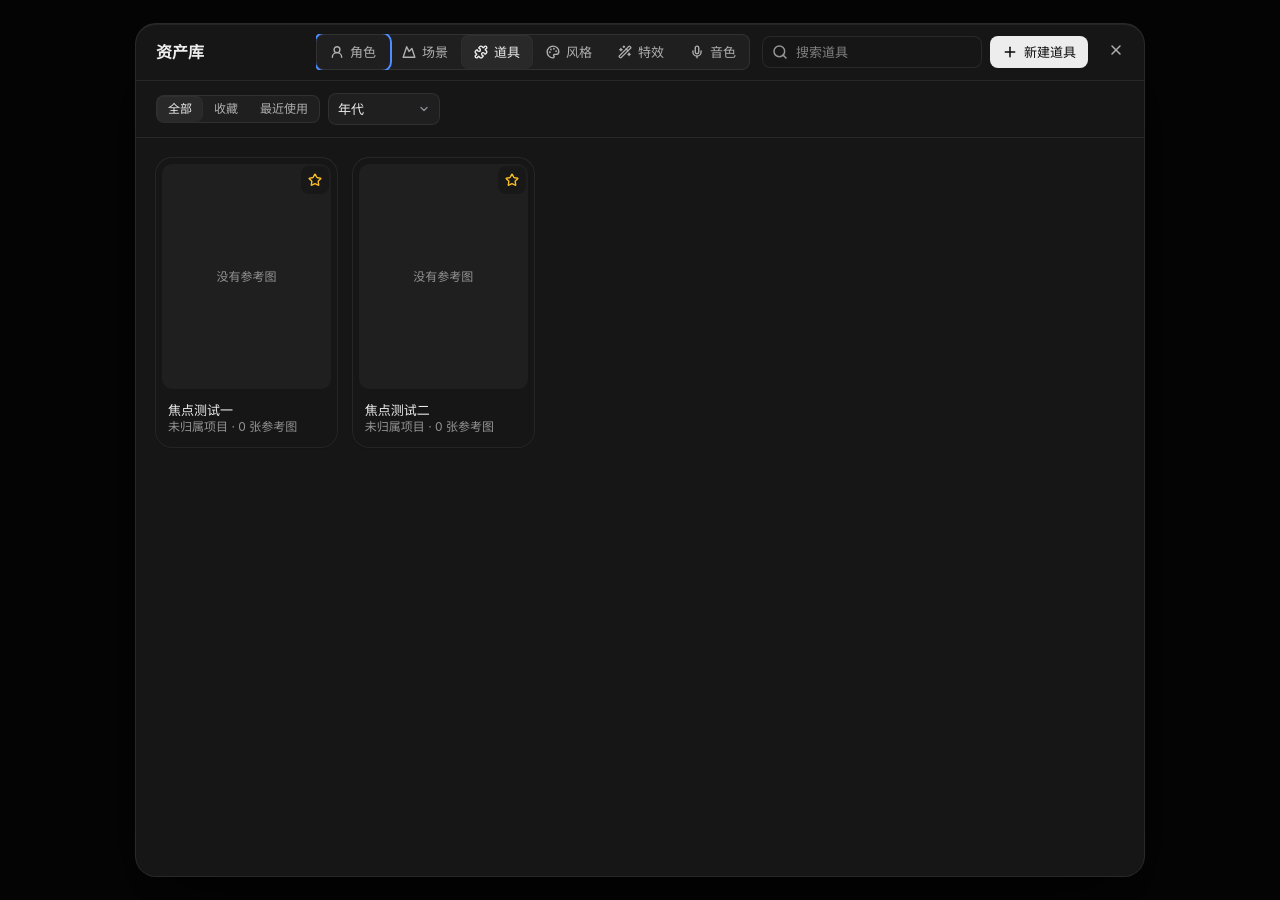
Scenario: 资产库面板的收藏 › 收藏列表取消当前卡片后聚焦下一项，最后一项消失后聚焦查询框
Click the button "收藏".
click(226, 109)  # box [204,97,248,121]
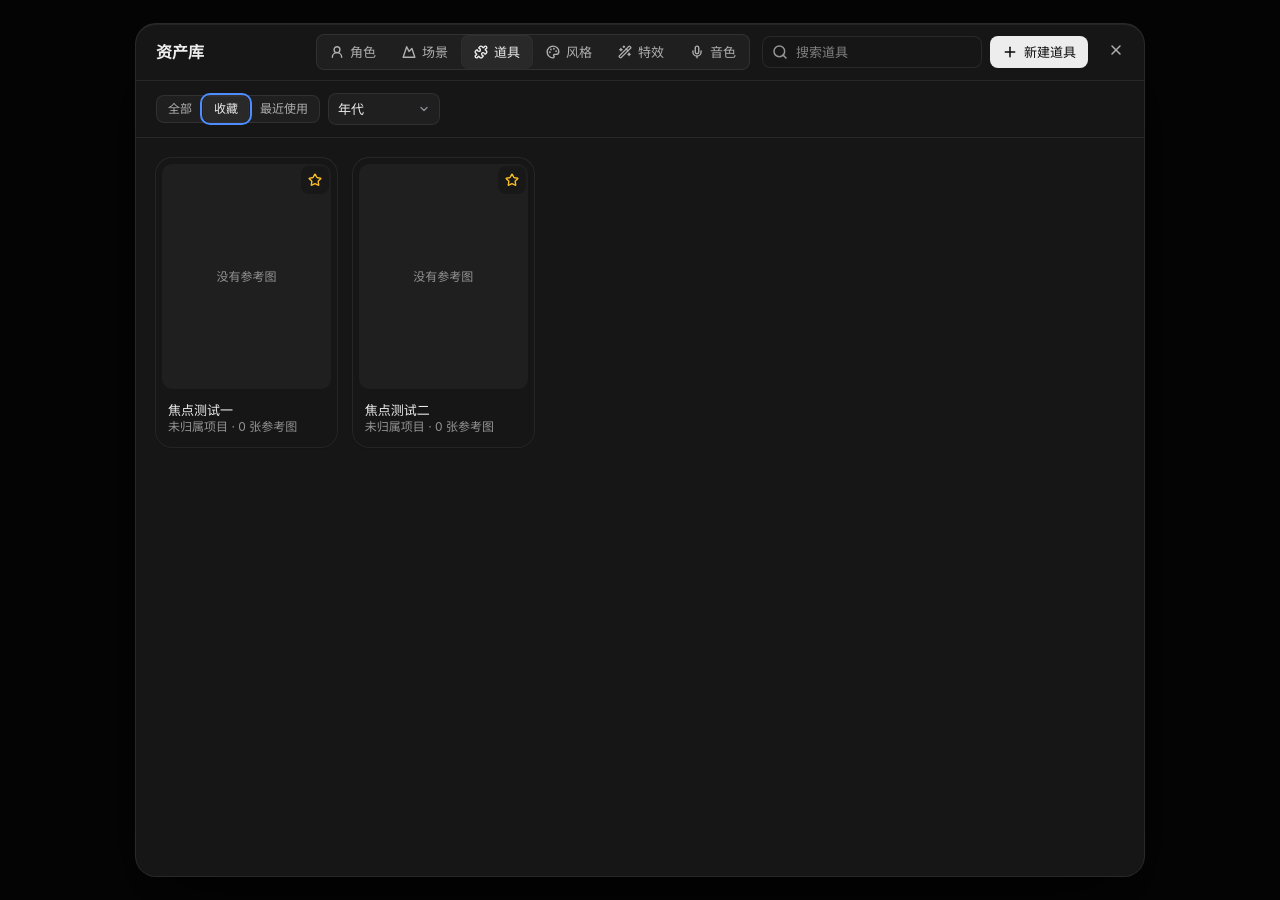
Click the 1st button named "取消收藏".
click(315, 180)  # box [301,166,329,194]
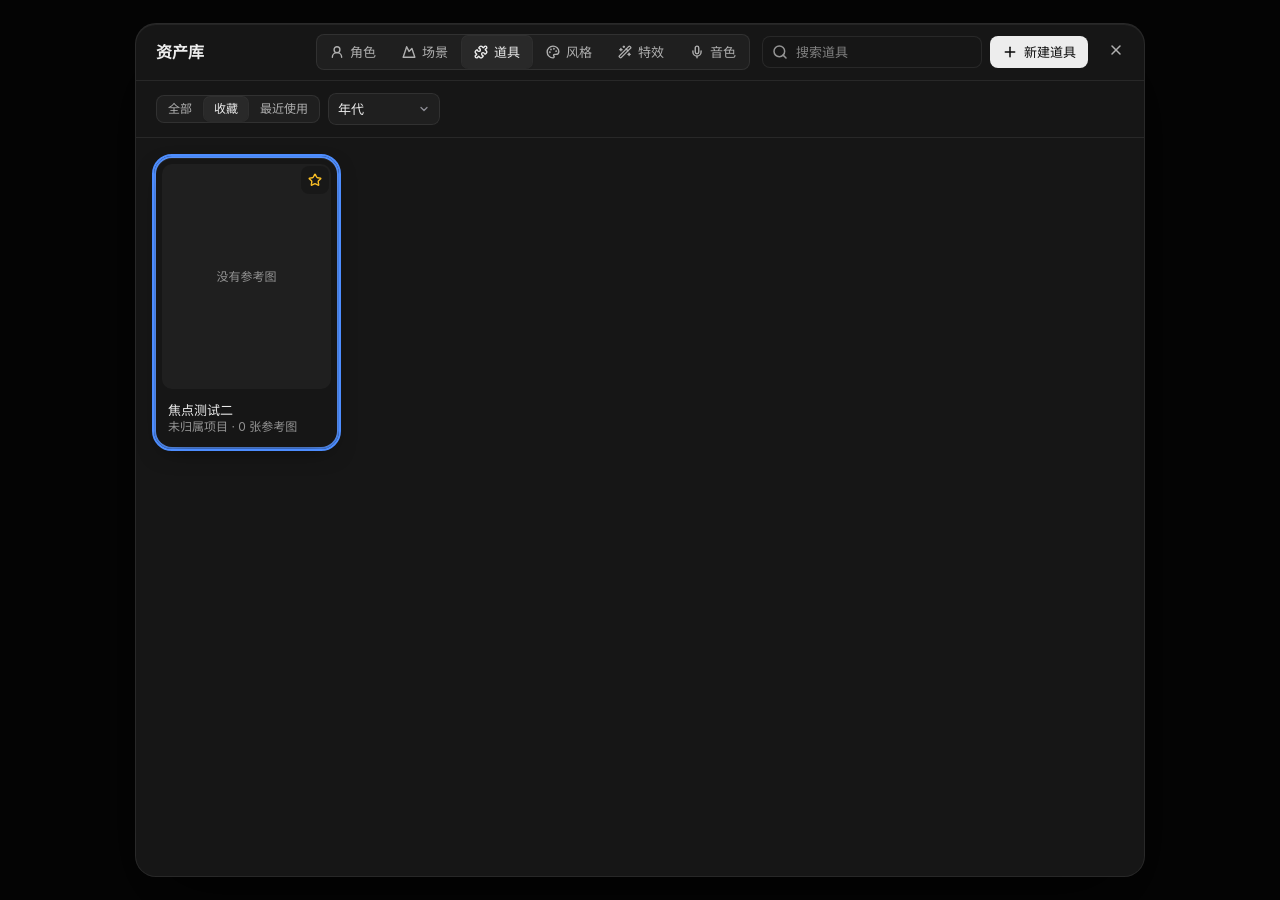
Expected: the number of list items is 1, [156,158,337,447]
Click the button named "取消收藏".
click(315, 180)  # box [301,166,329,194]
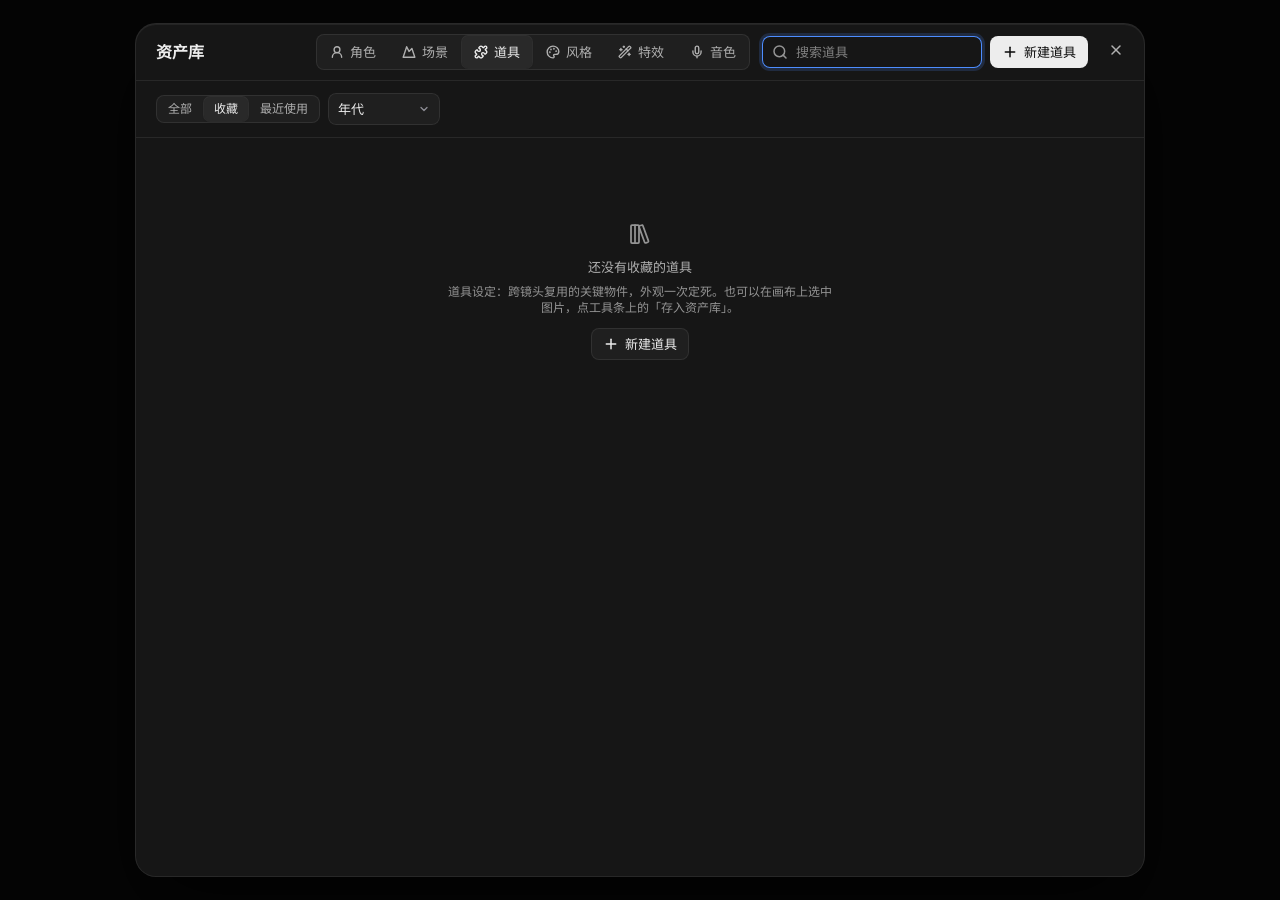
Expected: no list items are shown
